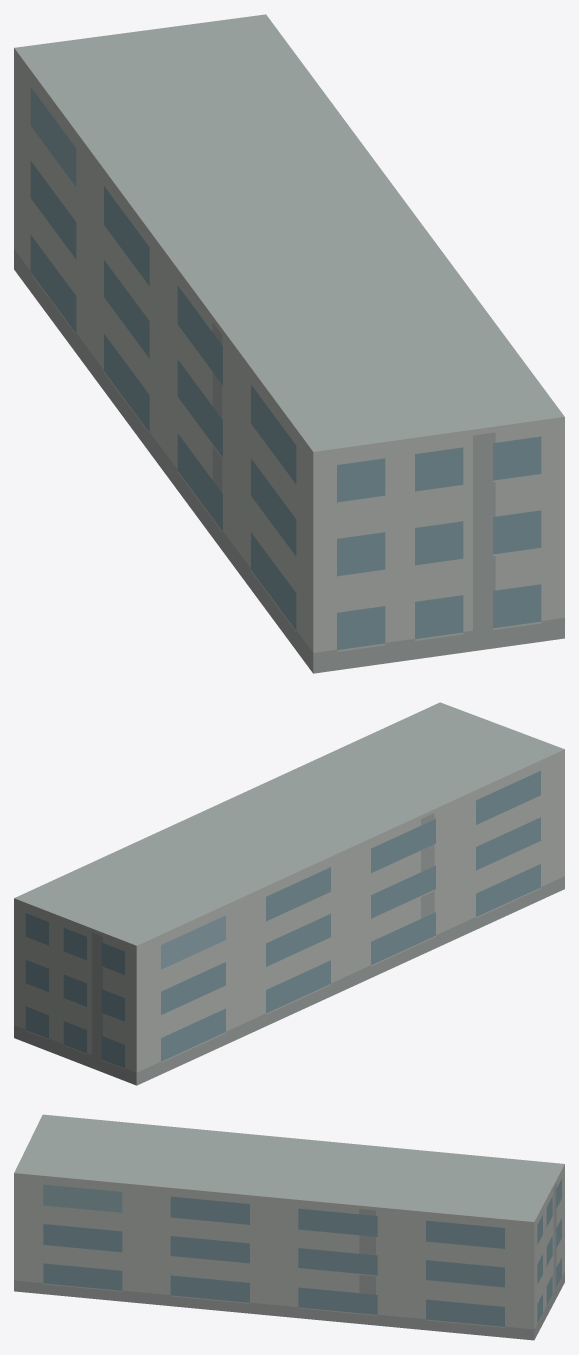
File: survey-upis-32585824.glb
The picture shows the model from 3 angles, top to bottom: view 1: azimuth 30°, elevation 25°; view 2: azimuth 150°, elevation 25°; view 3: azimuth 270°, elevation 25°; orthographic projection. The views are drawn at different scales.
Parts seen in each view (by area): view 1: survey-upis-32585824.tmp; view 2: survey-upis-32585824.tmp; view 3: survey-upis-32585824.tmp.
Boxes of the visible parts, x1,y1,x2,y2 form: survey-upis-32585824.tmp: (14, 14, 564, 673); survey-upis-32585824.tmp: (14, 702, 564, 1085); survey-upis-32585824.tmp: (14, 1114, 564, 1340).
Bounding box in the file's own units: 17.86 × 9.15 × 38.62.
